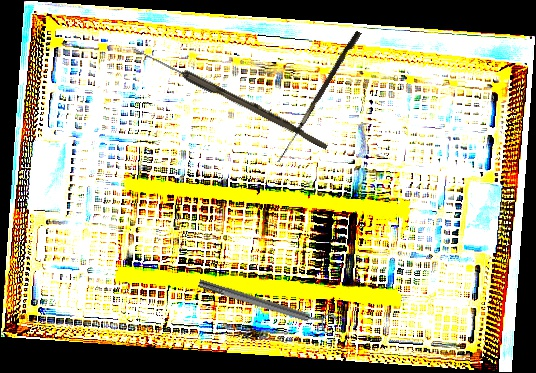Fixation Ring: (196, 271, 337, 337)
Hook Surgical: (277, 28, 362, 167)
Surgical Spoon: (131, 45, 331, 150)
